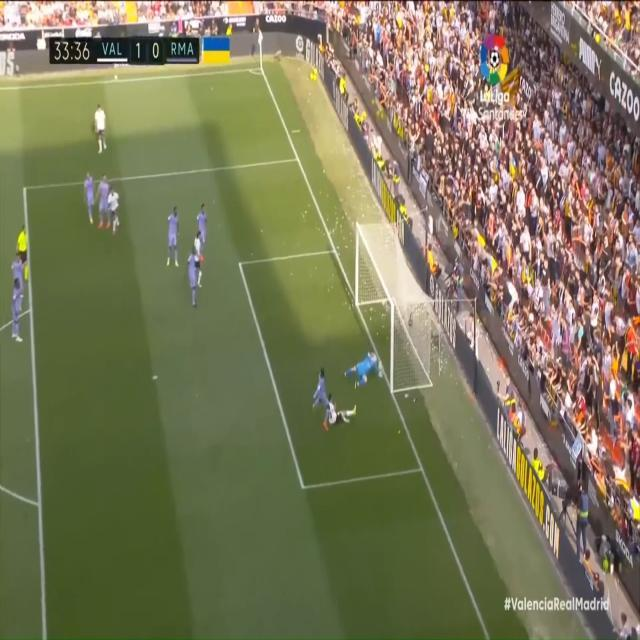goalkeeper: (344, 349, 384, 391)
player: (91, 103, 116, 166), (326, 390, 361, 425), (313, 366, 331, 431), (191, 227, 205, 289), (11, 277, 24, 343), (167, 205, 180, 271), (83, 166, 97, 226), (187, 245, 199, 312), (98, 173, 111, 232), (196, 199, 211, 250), (108, 184, 122, 236), (11, 254, 25, 295)
referee: (16, 213, 36, 287)
